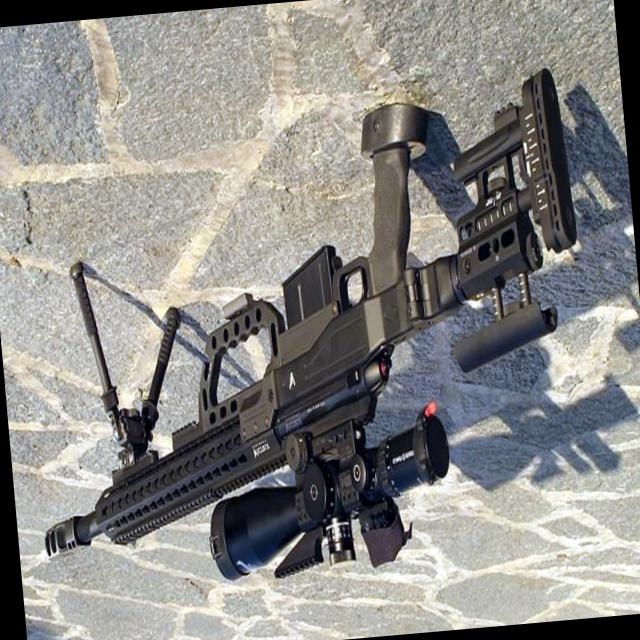Weapon: (0, 60, 602, 609)
